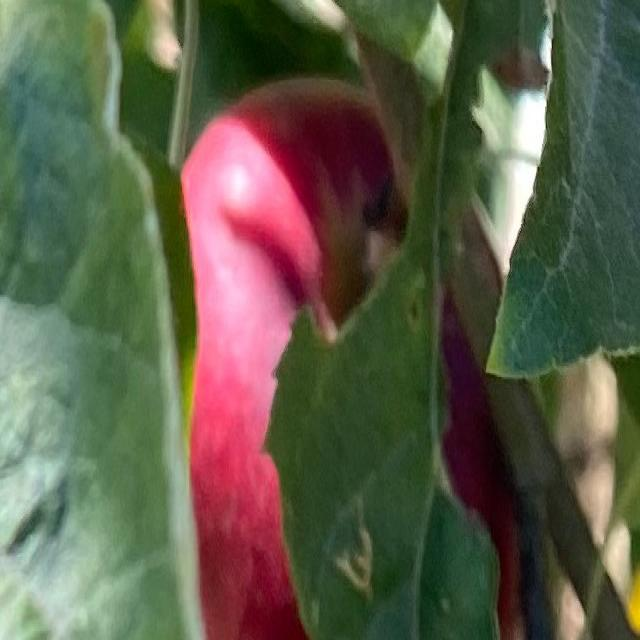Apples: (181, 76, 518, 638)
